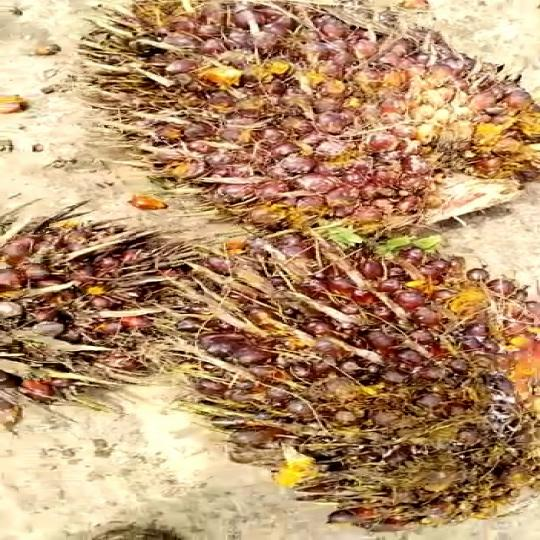masak: (62, 0, 538, 244), (191, 235, 540, 525), (0, 207, 233, 412)
